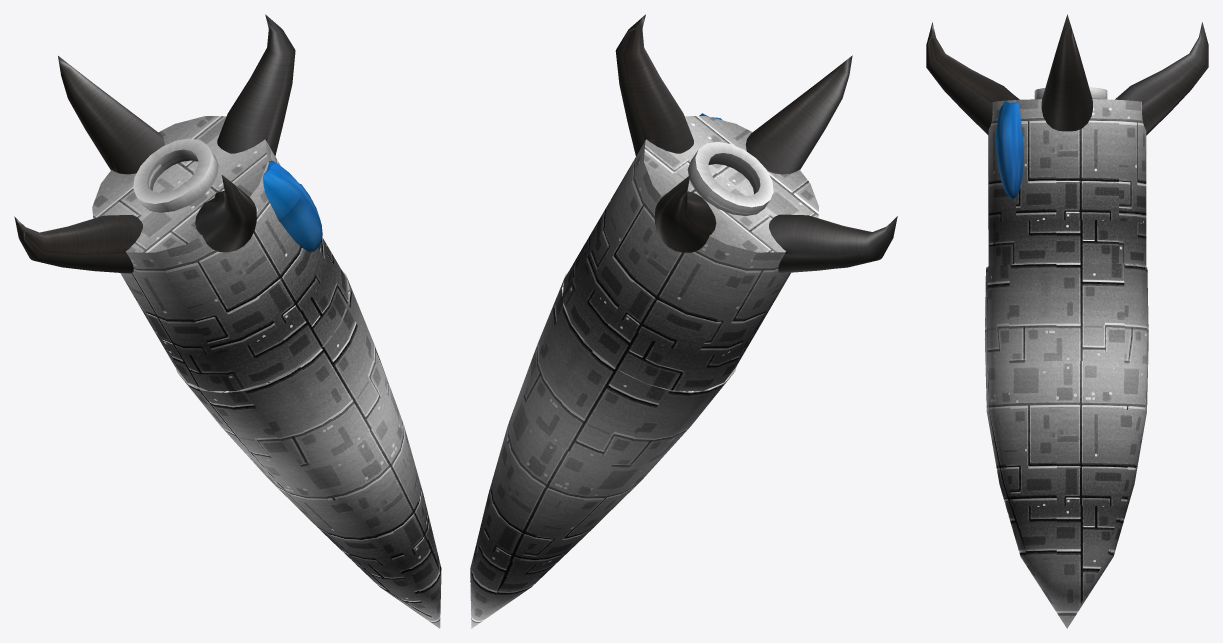
The model's file is Cohete.fbx.
The picture shows the model from 3 angles, left to right: view 1: azimuth 30°, elevation 25°; view 2: azimuth 150°, elevation 25°; view 3: azimuth 270°, elevation 25°; orthographic projection. The views are drawn at different scales.
Parts seen in each view (by area): view 1: Cylinder002, Cone002, Cone001, Cone004, Tube001, Cone003, Capsule001; view 2: Cylinder002, Cone002, Cone003, Cone001, Tube001, Cone004; view 3: Cylinder002, Cone002, Cone004, Cone003, Capsule001.
Part boxes in pixels (x1,y1,x2,y2): Cylinder002: (92,116,441,628); Cone002: (217,14,295,156); Cone001: (14,215,142,273); Cone004: (58,56,164,174); Tube001: (133,138,219,212); Cone003: (195,175,256,252); Capsule001: (262,160,322,251); Cylinder002: (470,116,818,628); Cone002: (615,14,693,155); Cone003: (745,55,852,174); Cone001: (769,214,897,273); Tube001: (687,142,773,215); Cone004: (654,175,716,252); Cylinder002: (984,99,1148,628); Cone002: (1041,14,1092,131); Cone004: (1115,22,1208,135); Cone003: (926,22,1019,134); Capsule001: (995,101,1023,198).
Size of the model in its own units: 5.25 by 7.75 by 3.64.
4 materials, 4 textured.
